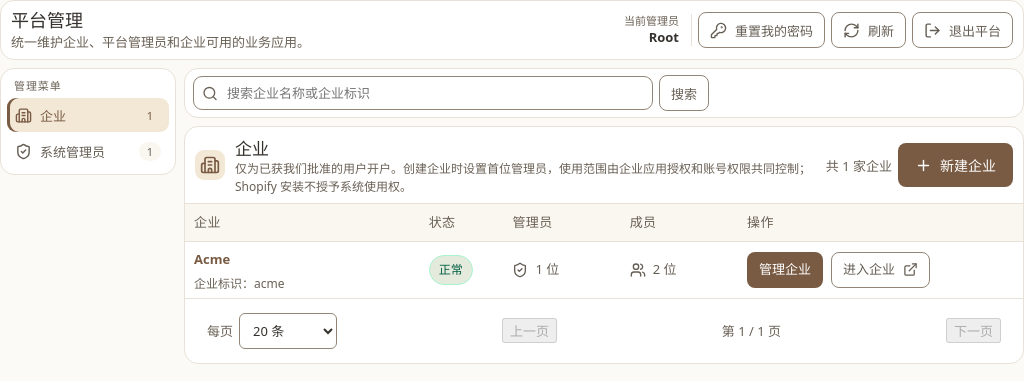
Test: PlatformAdminConsolePage › uses a management menu and shows only the selected module
The image size is (1024, 381).
Expected: the element named "平台管理菜单" is shown, [0, 68, 176, 175]
Expected: the heading "企业" is shown, [235, 137, 269, 160]
Step 1. Click the tab "系统管理员 1" → (88, 151), box [7, 134, 169, 168]
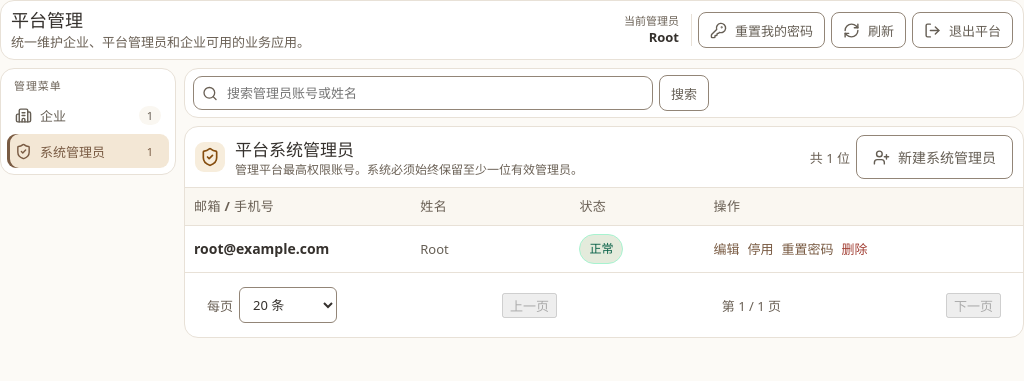
Result: the heading "平台系统管理员" is shown at [235, 138, 354, 161]
